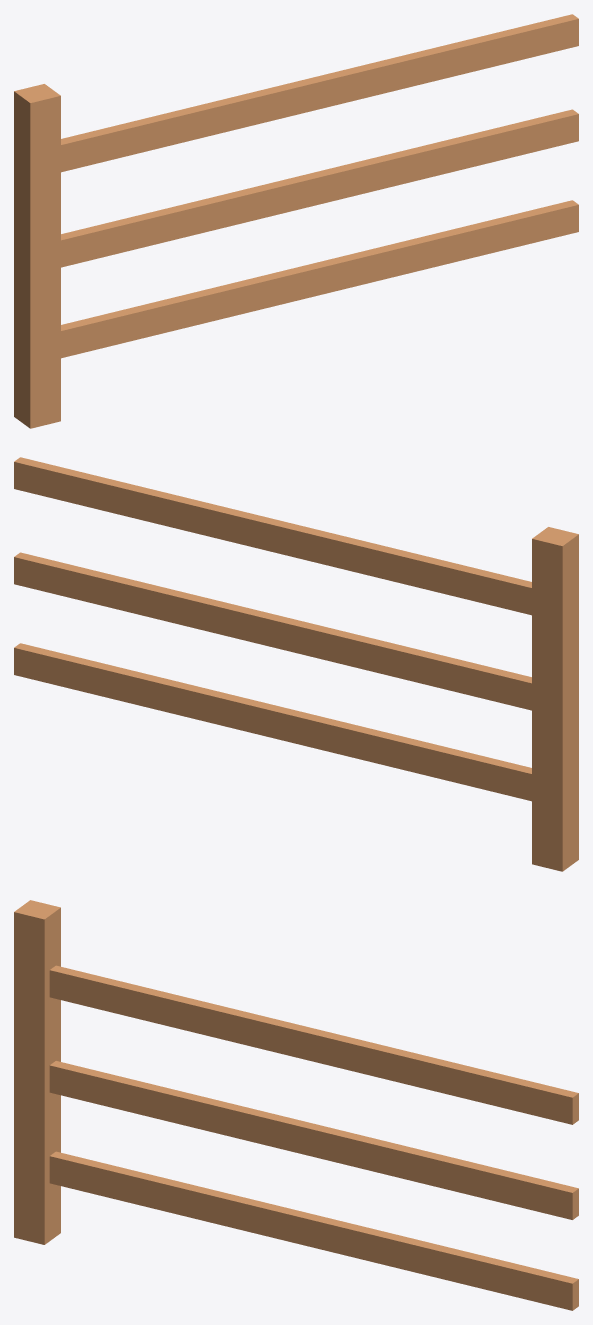
File: fence_01.fbx
3 renders of one model, top to bottom at view 1: azimuth 30°, elevation 25°; view 2: azimuth 150°, elevation 25°; view 3: azimuth 330°, elevation 25°, orthographic.
Visible parts, largest first — view 1: fence_01; view 2: fence_01; view 3: fence_01.
Part boxes in pixels (x1,y1,x2,y2): fence_01: (14,14,578,428); fence_01: (14,457,578,871); fence_01: (14,900,578,1310).
Bounding box in the file's own units: 188 × 106 × 9.65.
